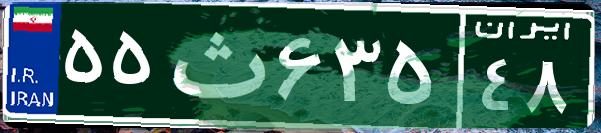3: (330, 28, 385, 110)
4: (475, 38, 525, 113)
5: (385, 28, 445, 110), (57, 26, 110, 107), (110, 28, 158, 105)
6: (273, 28, 330, 110)
8: (525, 38, 570, 115)
ث: (158, 15, 273, 115)
